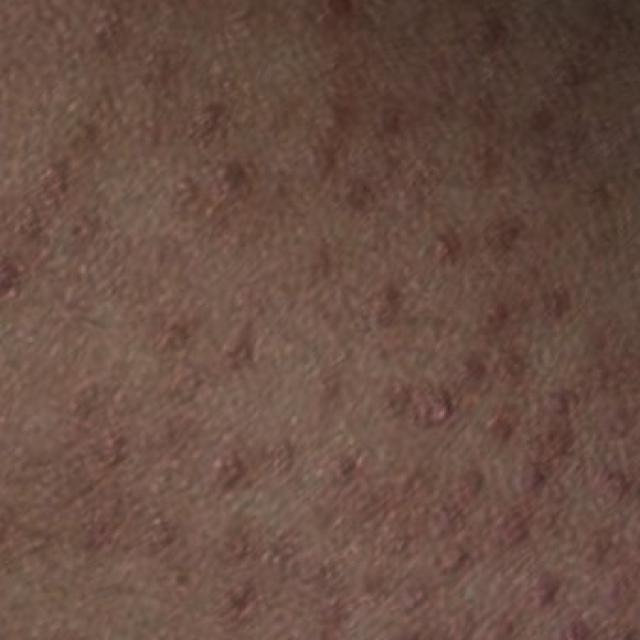keratosis pilaris: (90, 0, 640, 640)
